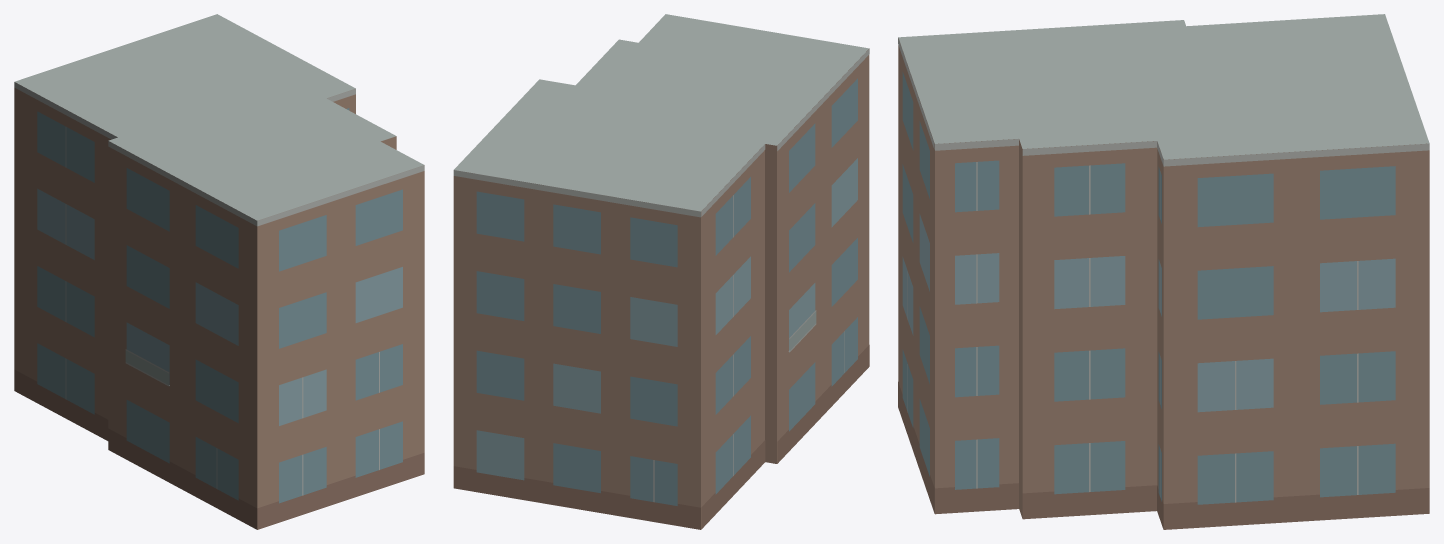
The model's file is survey-upis-33044871.glb.
The picture shows the model from 3 angles, left to right: view 1: azimuth 30°, elevation 25°; view 2: azimuth 150°, elevation 25°; view 3: azimuth 270°, elevation 25°; orthographic projection. The views are drawn at different scales.
Visible parts, largest first — view 1: survey-upis-33044871.tmp; view 2: survey-upis-33044871.tmp; view 3: survey-upis-33044871.tmp.
Boxes of the visible parts, left/top/right/bottom form: survey-upis-33044871.tmp: left=14, top=14, right=424, bottom=529; survey-upis-33044871.tmp: left=453, top=14, right=869, bottom=529; survey-upis-33044871.tmp: left=898, top=14, right=1429, bottom=529.
Bounding box in the file's own units: 11.18 × 13.23 × 17.23.
